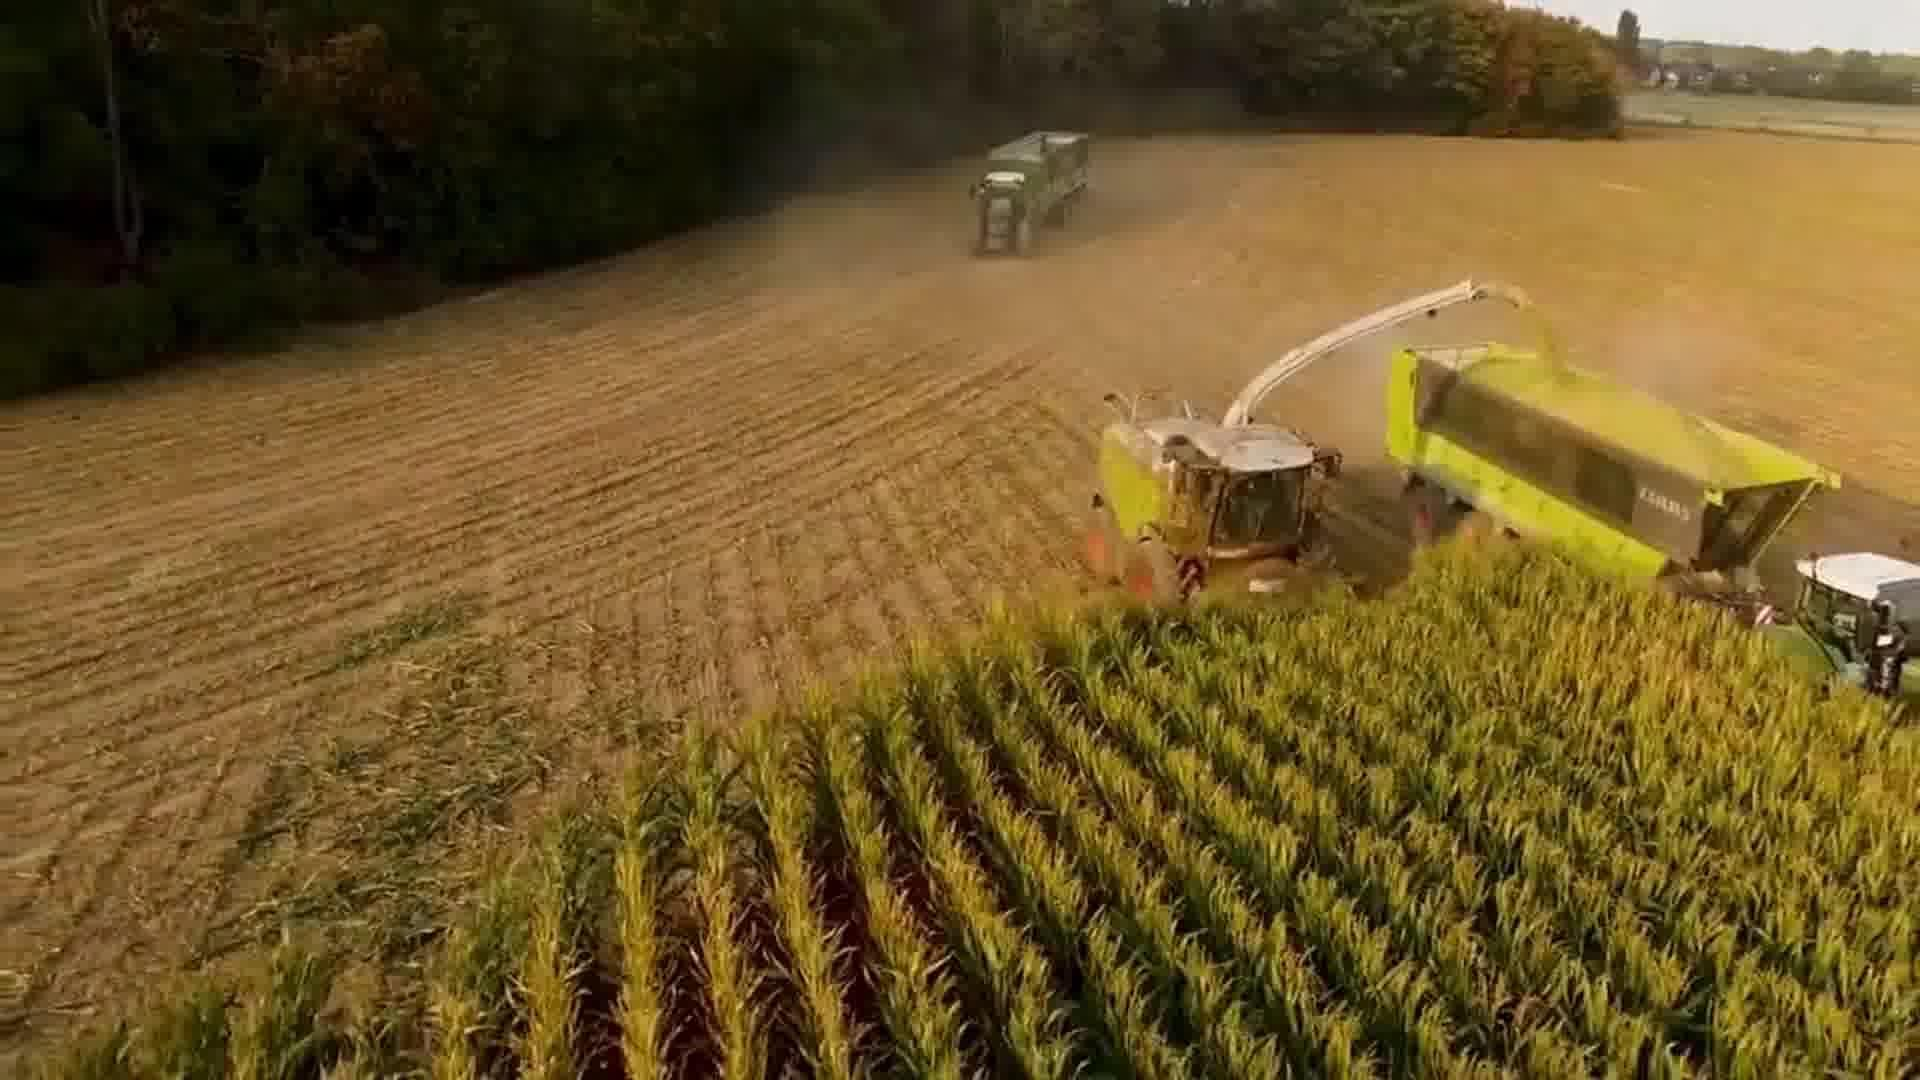combine harvester: (1058, 260, 1542, 649)
tractor: (1741, 535, 1920, 727), (956, 169, 1040, 262)
trailer: (1373, 310, 1845, 650), (973, 115, 1096, 241)
